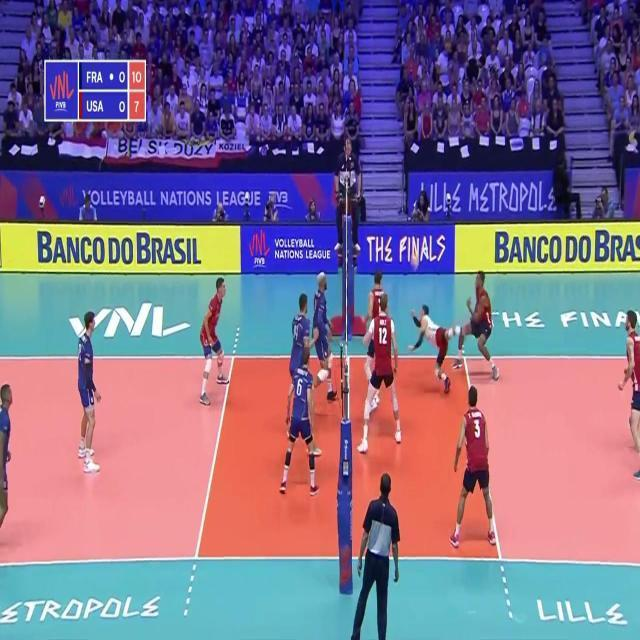volleyball: (410, 252, 420, 266)
